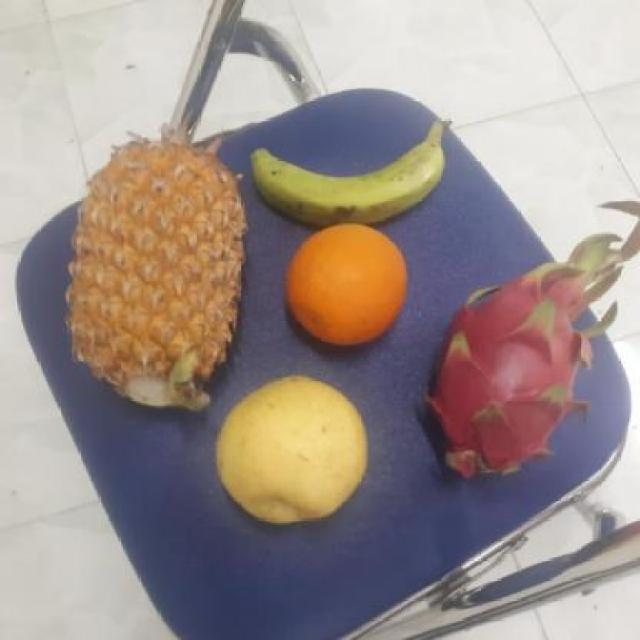banana: (245, 131, 449, 234)
dragon fruit: (415, 269, 595, 483)
oren: (281, 221, 412, 344)
pear: (209, 371, 369, 524)
pineapple: (63, 145, 248, 409)
